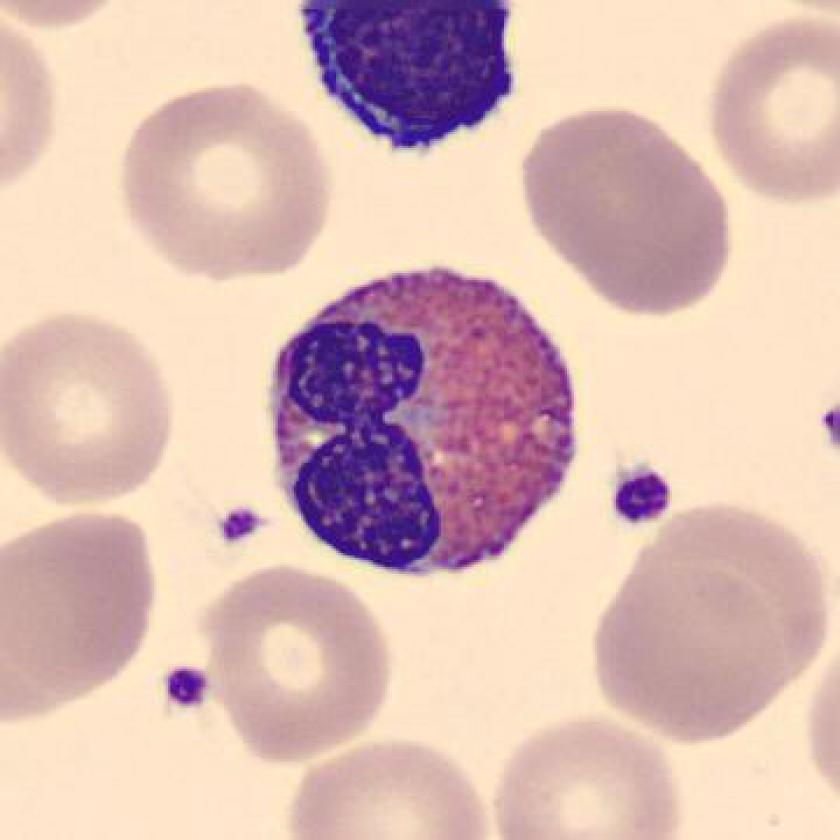eosinophil: (258, 254, 587, 594)
